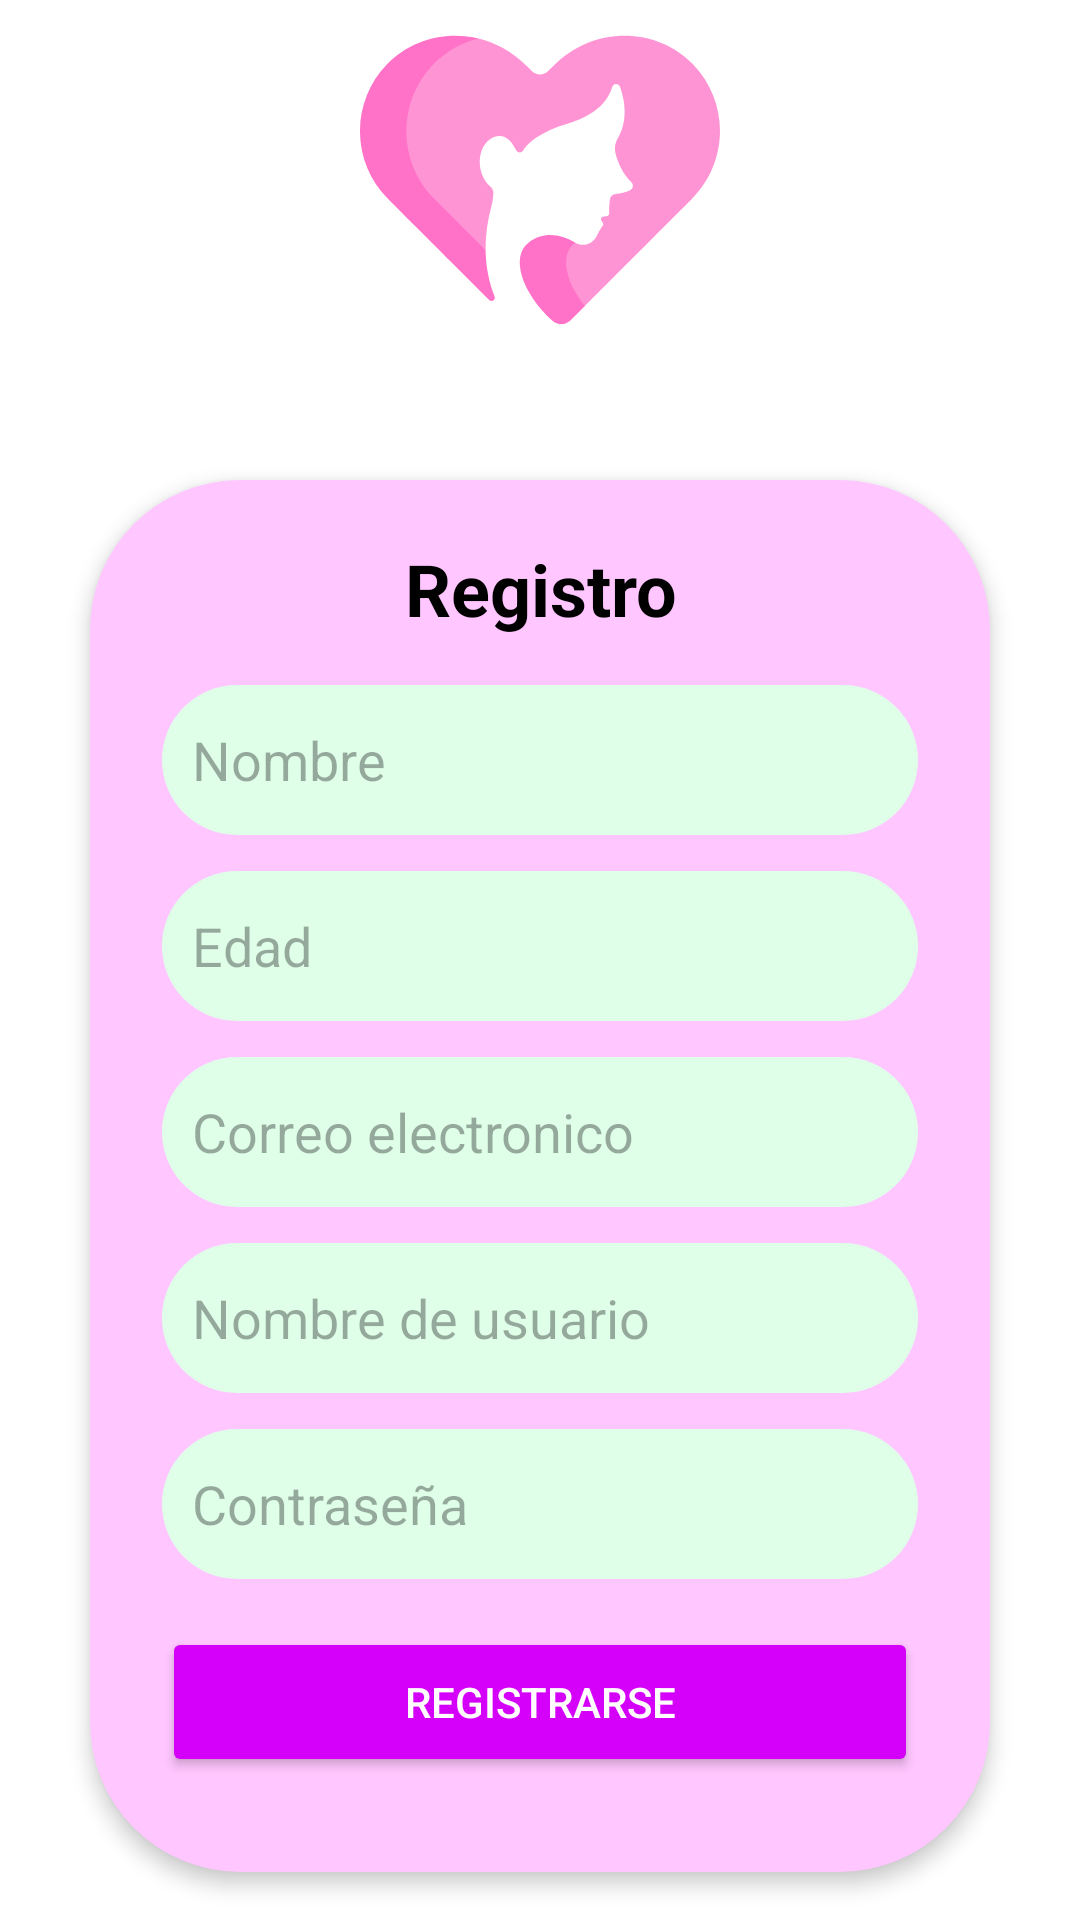

Icon bounding boxes for this 1080px x 1920px phone screenshot, format {"x1": x1, "y1": y1, "x2": x2, "y2": y2}:
womens day: {"x1": 360, "y1": 35, "x2": 720, "y2": 325}
